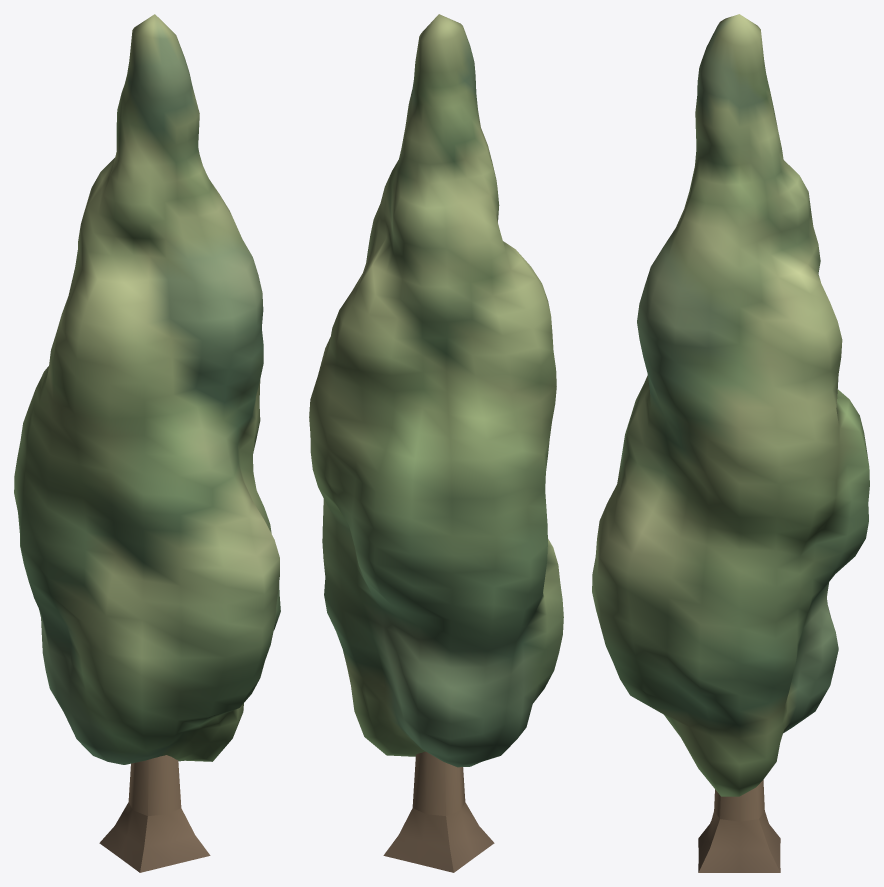
File: poplar_a.glb
3 views of the same model, side by side, from view 1: azimuth 30°, elevation 25°; view 2: azimuth 150°, elevation 25°; view 3: azimuth 270°, elevation 25° (orthographic).
Parts seen in each view (by area): view 1: poplar_a; view 2: poplar_a; view 3: poplar_a.
Part boxes in pixels (left/top/right/bottom): poplar_a: left=14, top=14, right=280, bottom=872; poplar_a: left=309, top=14, right=563, bottom=872; poplar_a: left=592, top=14, right=869, bottom=872.
Size of the model in its own units: 9.19 by 32.91 by 9.85.
